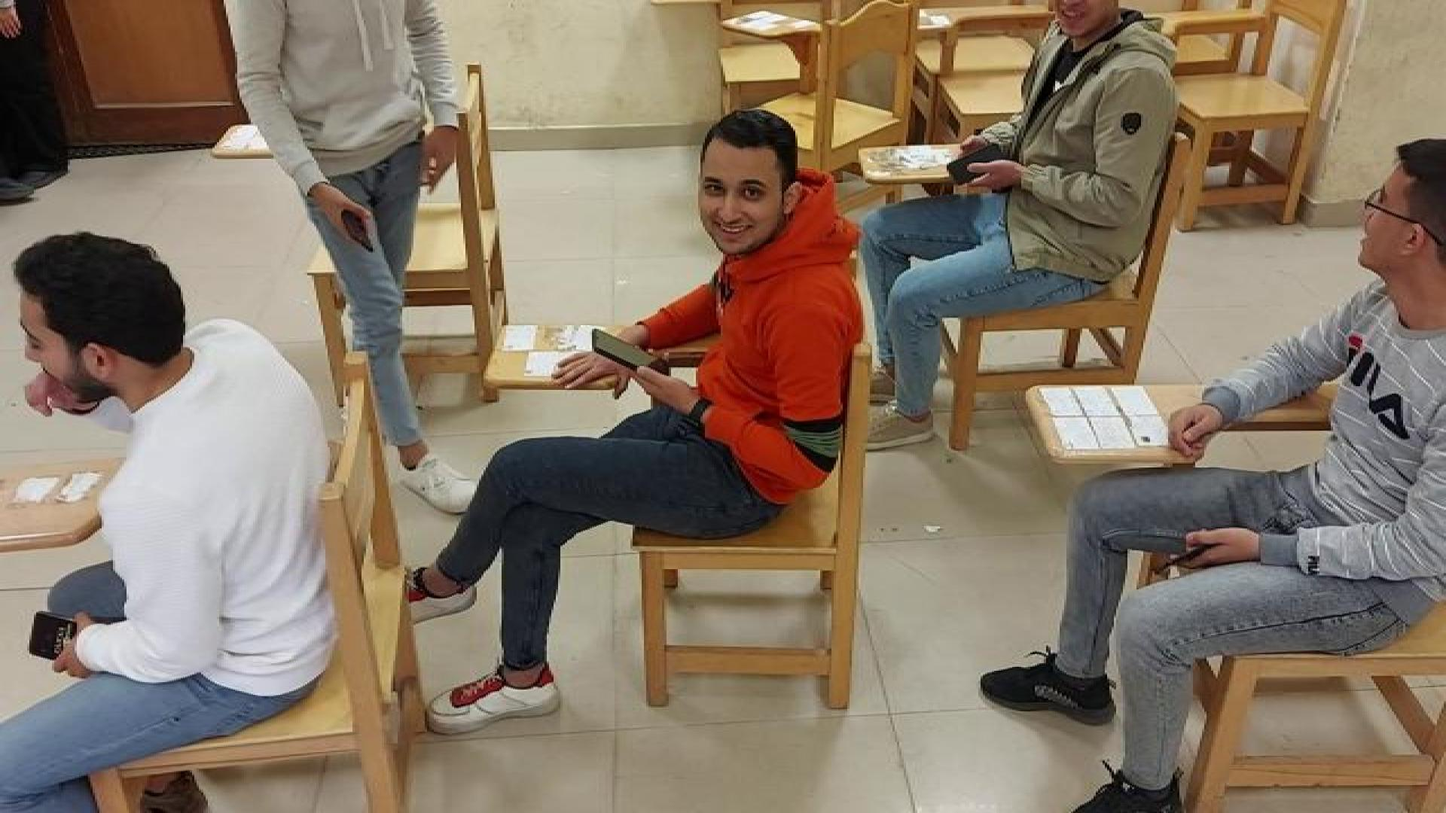phone: (592, 328, 676, 374), (27, 610, 75, 661), (946, 141, 1004, 182)
